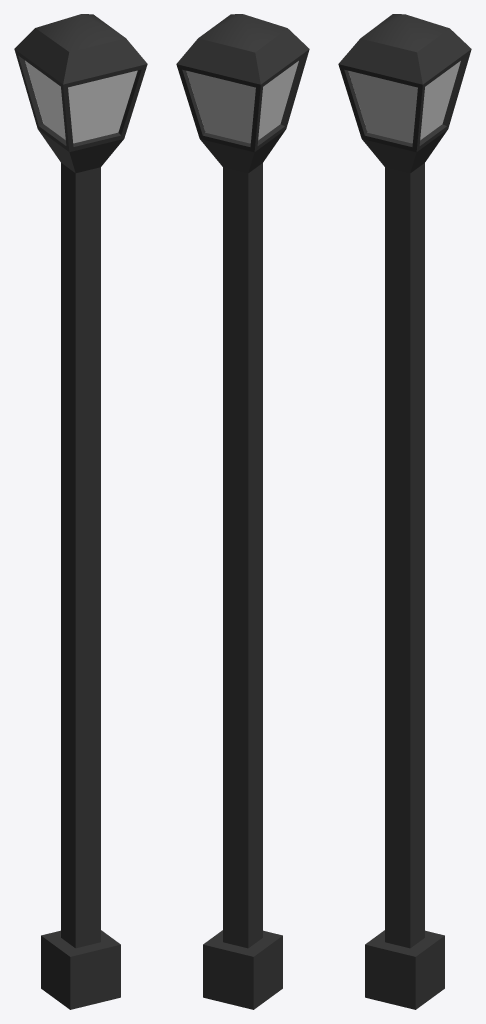
The model's file is LampPost.FBX.
The picture shows the model from 3 angles, left to right: view 1: azimuth 30°, elevation 25°; view 2: azimuth 150°, elevation 25°; view 3: azimuth 330°, elevation 25°; orthographic projection.
Parts seen in each view (by area): view 1: Box001; view 2: Box001; view 3: Box001.
Boxes of the visible parts, <box> form: Box001: <box>14,14,147,1009</box>; Box001: <box>176,14,309,1009</box>; Box001: <box>338,14,471,1009</box>.
Size of the model in its own units: 0.29 by 3.21 by 0.29.
1 material, 1 textured.
